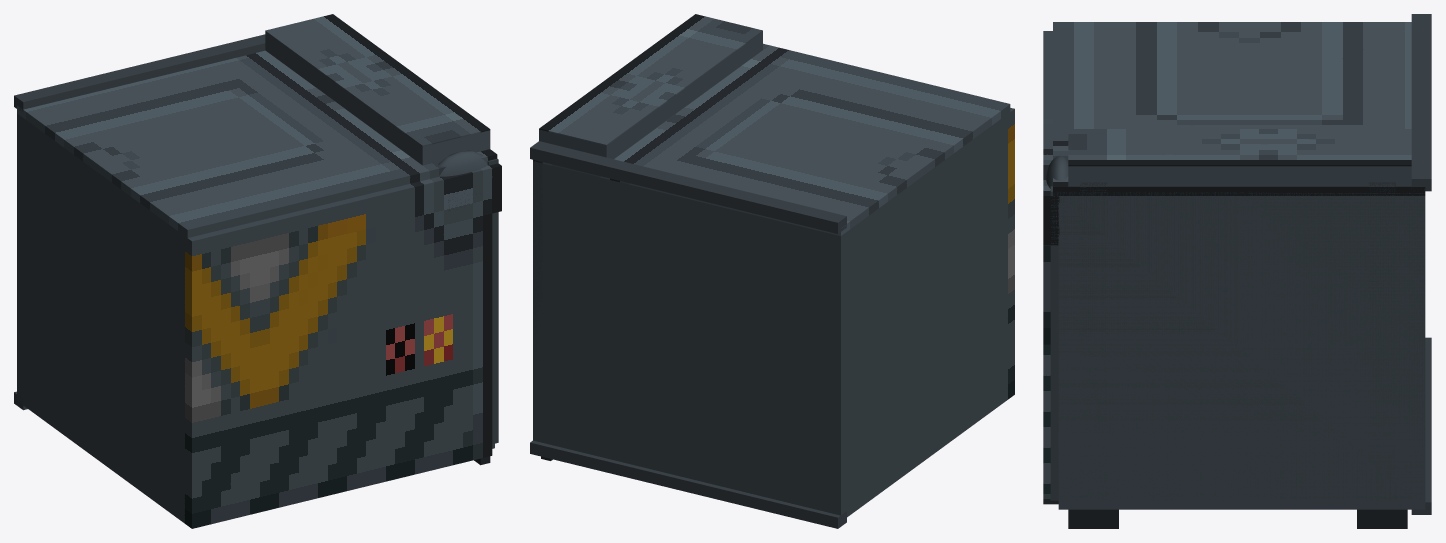
Rendered from CMU3DFreightAU14ContainerTartarusRightOffBlueWY.glb.
3 renders of one model, left to right at view 1: azimuth 30°, elevation 25°; view 2: azimuth 150°, elevation 25°; view 3: azimuth 270°, elevation 25°, orthographic. The views are drawn at different scales.
Parts seen in each view (by area): view 1: painted front panel, closed cargo shell, source-painted lid, source-painted locking strap, outer lid strap, rear horizontal frame, outer end wall, rounded strap end; view 2: closed cargo shell, source-painted lid, rear horizontal frame (×2), source-painted locking strap, outer lid strap, painted front panel, outer end wall; view 3: closed cargo shell, source-painted lid, outer end wall, source-painted locking strap, outer lid strap, rear horizontal frame (×2), painted front panel, corner lifting foot (×2), corner frame upright (×2), rounded strap end.
Part boxes in pixels (bbox=[...]): painted front panel: bbox=[184, 163, 501, 528]; closed cargo shell: bbox=[17, 113, 494, 523]; source-painted lid: bbox=[17, 50, 497, 237]; source-painted locking strap: bbox=[265, 14, 490, 146]; outer lid strap: bbox=[265, 32, 490, 165]; rear horizontal frame: bbox=[14, 34, 265, 113]; outer end wall: bbox=[487, 158, 498, 444]; rounded strap end: bbox=[438, 150, 487, 176]; closed cargo shell: bbox=[533, 114, 1007, 517]; source-painted lid: bbox=[533, 43, 1010, 235]; rear horizontal frame (×2): bbox=[530, 141, 846, 528]; source-painted locking strap: bbox=[539, 14, 762, 145]; outer lid strap: bbox=[539, 31, 762, 159]; painted front panel: bbox=[1008, 108, 1014, 399]; outer end wall: bbox=[533, 160, 542, 354]; closed cargo shell: bbox=[1058, 196, 1425, 509]; source-painted lid: bbox=[1053, 22, 1425, 195]; outer end wall: bbox=[1050, 186, 1425, 500]; source-painted locking strap: bbox=[1068, 129, 1411, 166]; outer lid strap: bbox=[1068, 166, 1411, 186]; rear horizontal frame (×2): bbox=[1411, 14, 1431, 514]; painted front panel: bbox=[1043, 31, 1059, 504]; corner lifting foot (×2): bbox=[1068, 509, 1407, 528]; corner frame upright (×2): bbox=[1080, 182, 1395, 499]; rounded strap end: bbox=[1046, 155, 1068, 188].
Bounding box in the file's own units: 1 × 1.03 × 0.995.
Materials: 10 (3 with a texture image).
